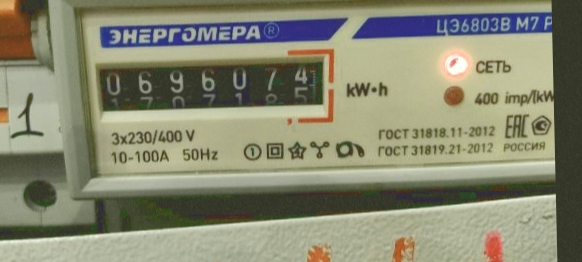0: (102, 71, 122, 96), (229, 65, 247, 91)
4: (291, 62, 308, 85)
5: (292, 85, 308, 106)
6: (197, 66, 216, 93), (134, 69, 153, 94)
7: (261, 65, 278, 92)
9: (166, 67, 183, 94)
screen: (84, 46, 338, 131)
